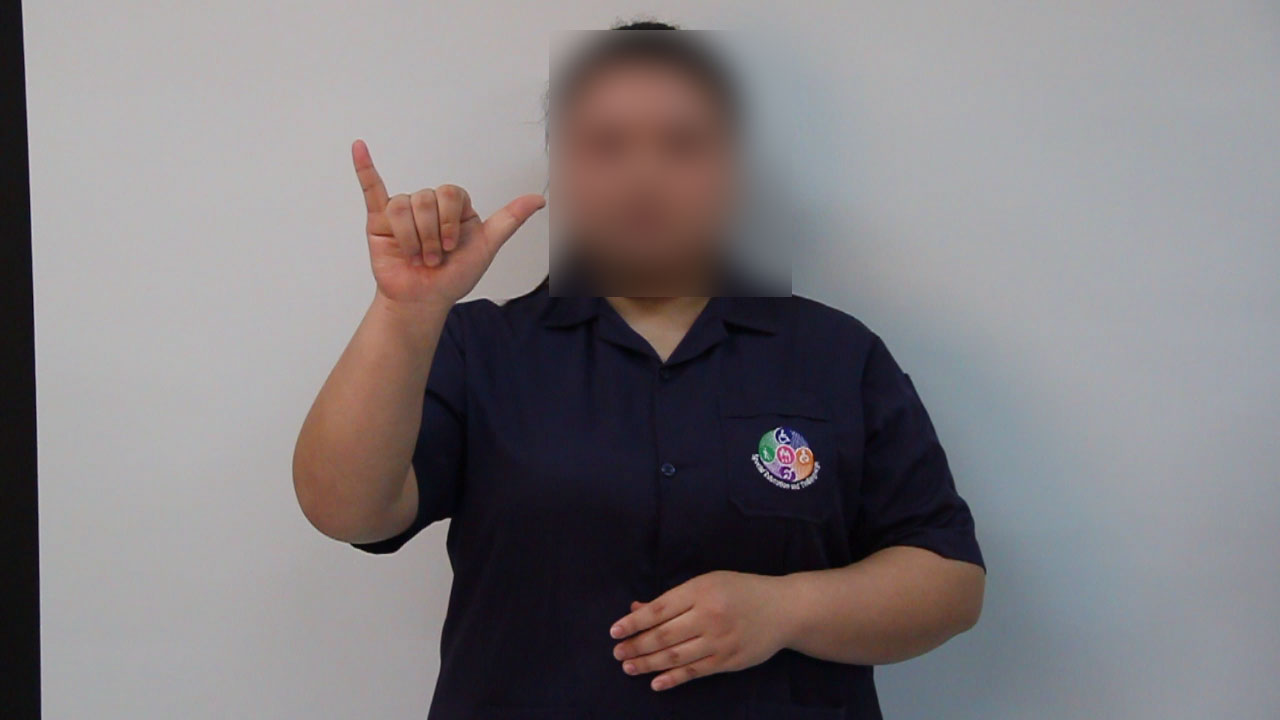yor: (326, 128, 557, 315)
